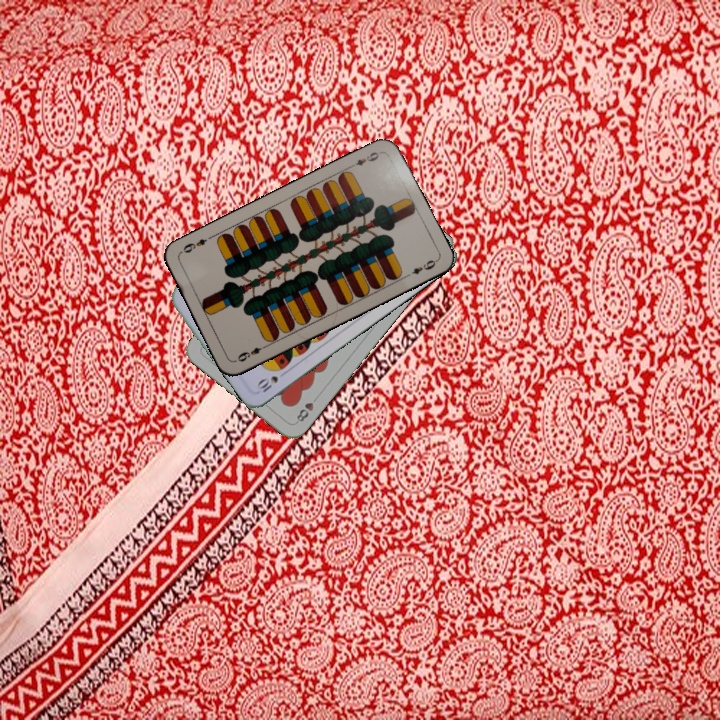E9: (346, 147, 384, 170), (234, 341, 270, 365)
H8: (292, 391, 321, 424)
S10: (252, 372, 281, 395)
